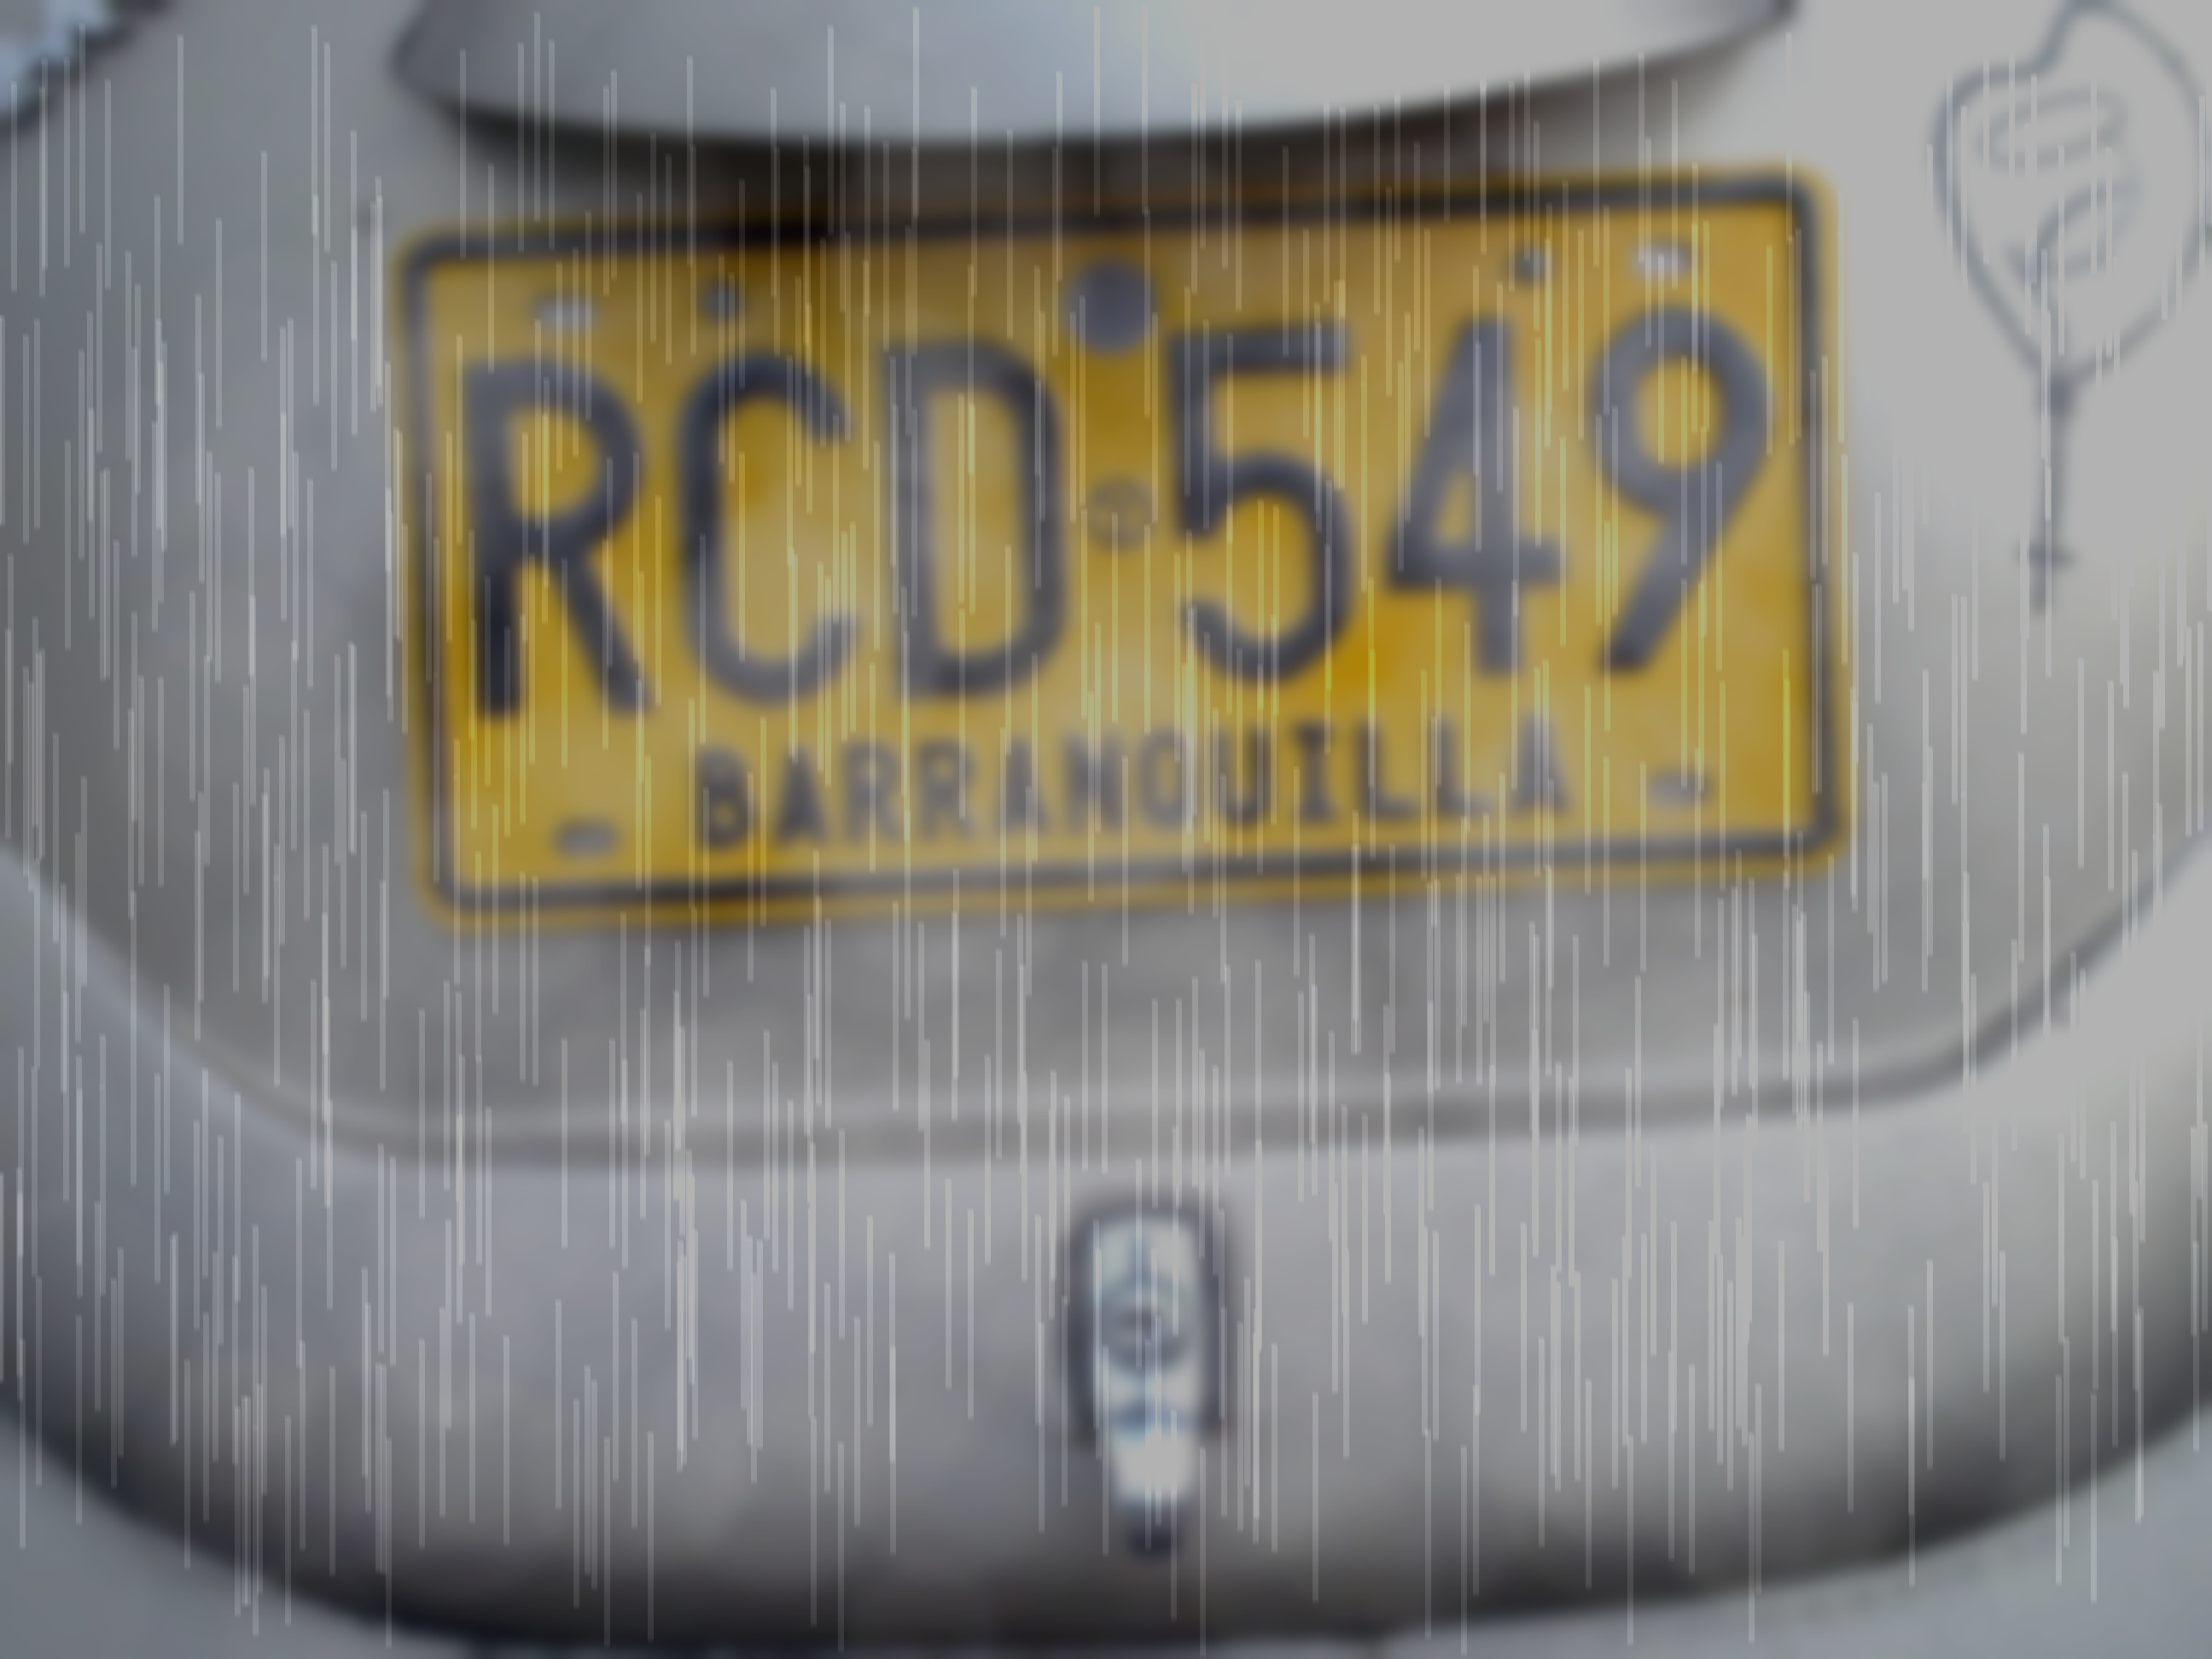placas: (377, 151, 1864, 943)
